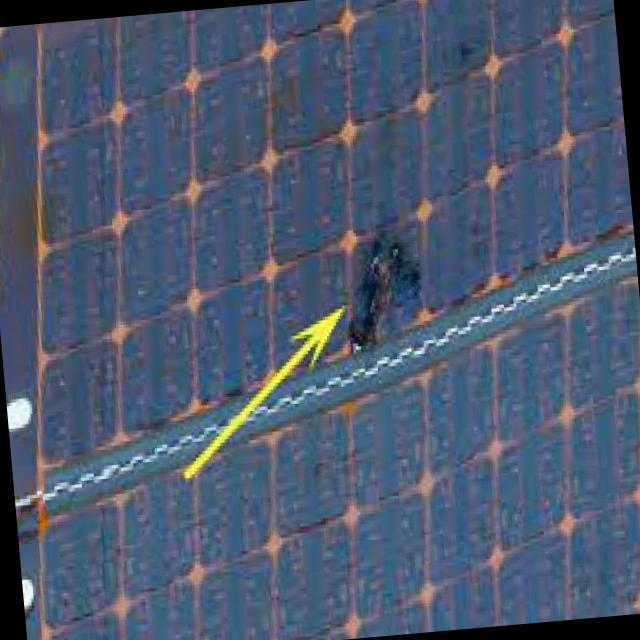faulty: (44, 0, 619, 586), (343, 206, 442, 360)
